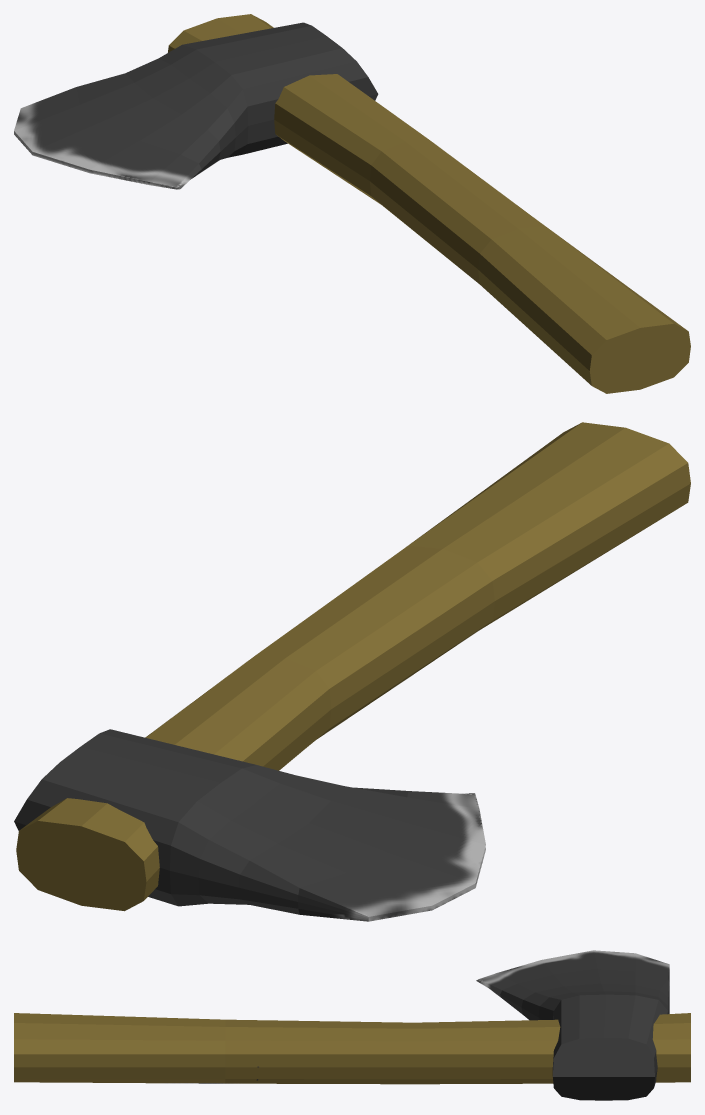
The model's file is HatchetDull.fbx.
3 renders of one model, top to bottom at view 1: azimuth 30°, elevation 25°; view 2: azimuth 150°, elevation 25°; view 3: azimuth 270°, elevation 25°, orthographic. The views are drawn at different scales.
Parts seen in each view (by area): view 1: HatchetDull; view 2: HatchetDull; view 3: HatchetDull.
Part boxes in pixels (x1,y1,x2,y2): HatchetDull: [14, 14, 690, 393]; HatchetDull: [14, 422, 690, 921]; HatchetDull: [14, 950, 690, 1100].
Size of the model in its own units: 53.85 by 12.61 by 123.
